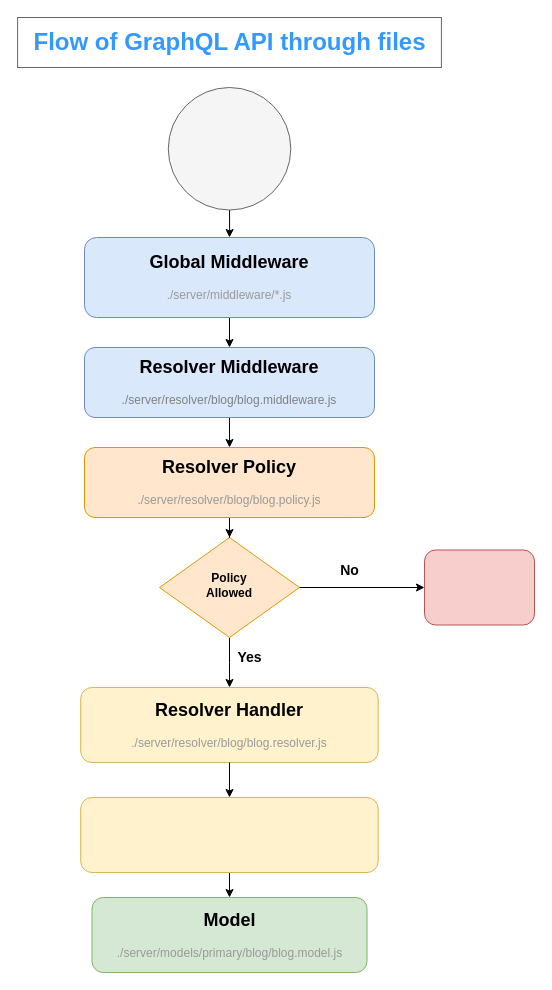
This 552x990 diagram has some shape labels left out. The shapes that lost their labels are listed below. From the top down, each one's centre as x and y in pixels, then its label:
At [229,148]: "/graphql Request".
At [479,587]: "Error Not Allowed".
At [229,834]: "Service ./server/services/blog/blog.service.js".
